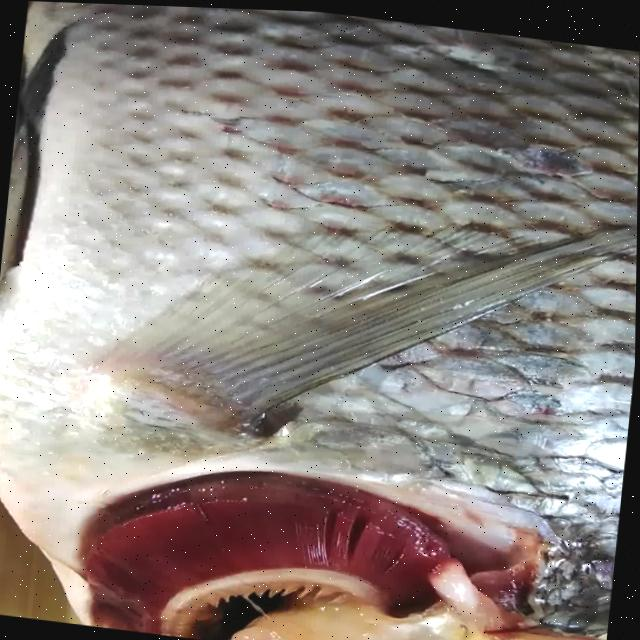Fresh: (79, 2, 640, 482), (47, 431, 491, 640)
